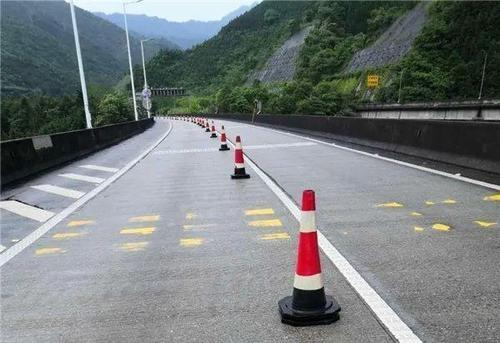cone_barrel: (280, 187, 335, 323), (229, 133, 247, 179), (217, 123, 228, 150), (203, 116, 209, 132), (209, 120, 215, 135)
